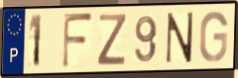1: (28, 12, 43, 71)
9: (133, 14, 159, 64)
F: (60, 11, 95, 70)
G: (197, 10, 229, 65)
N: (164, 10, 196, 65)
Z: (96, 12, 129, 67)
